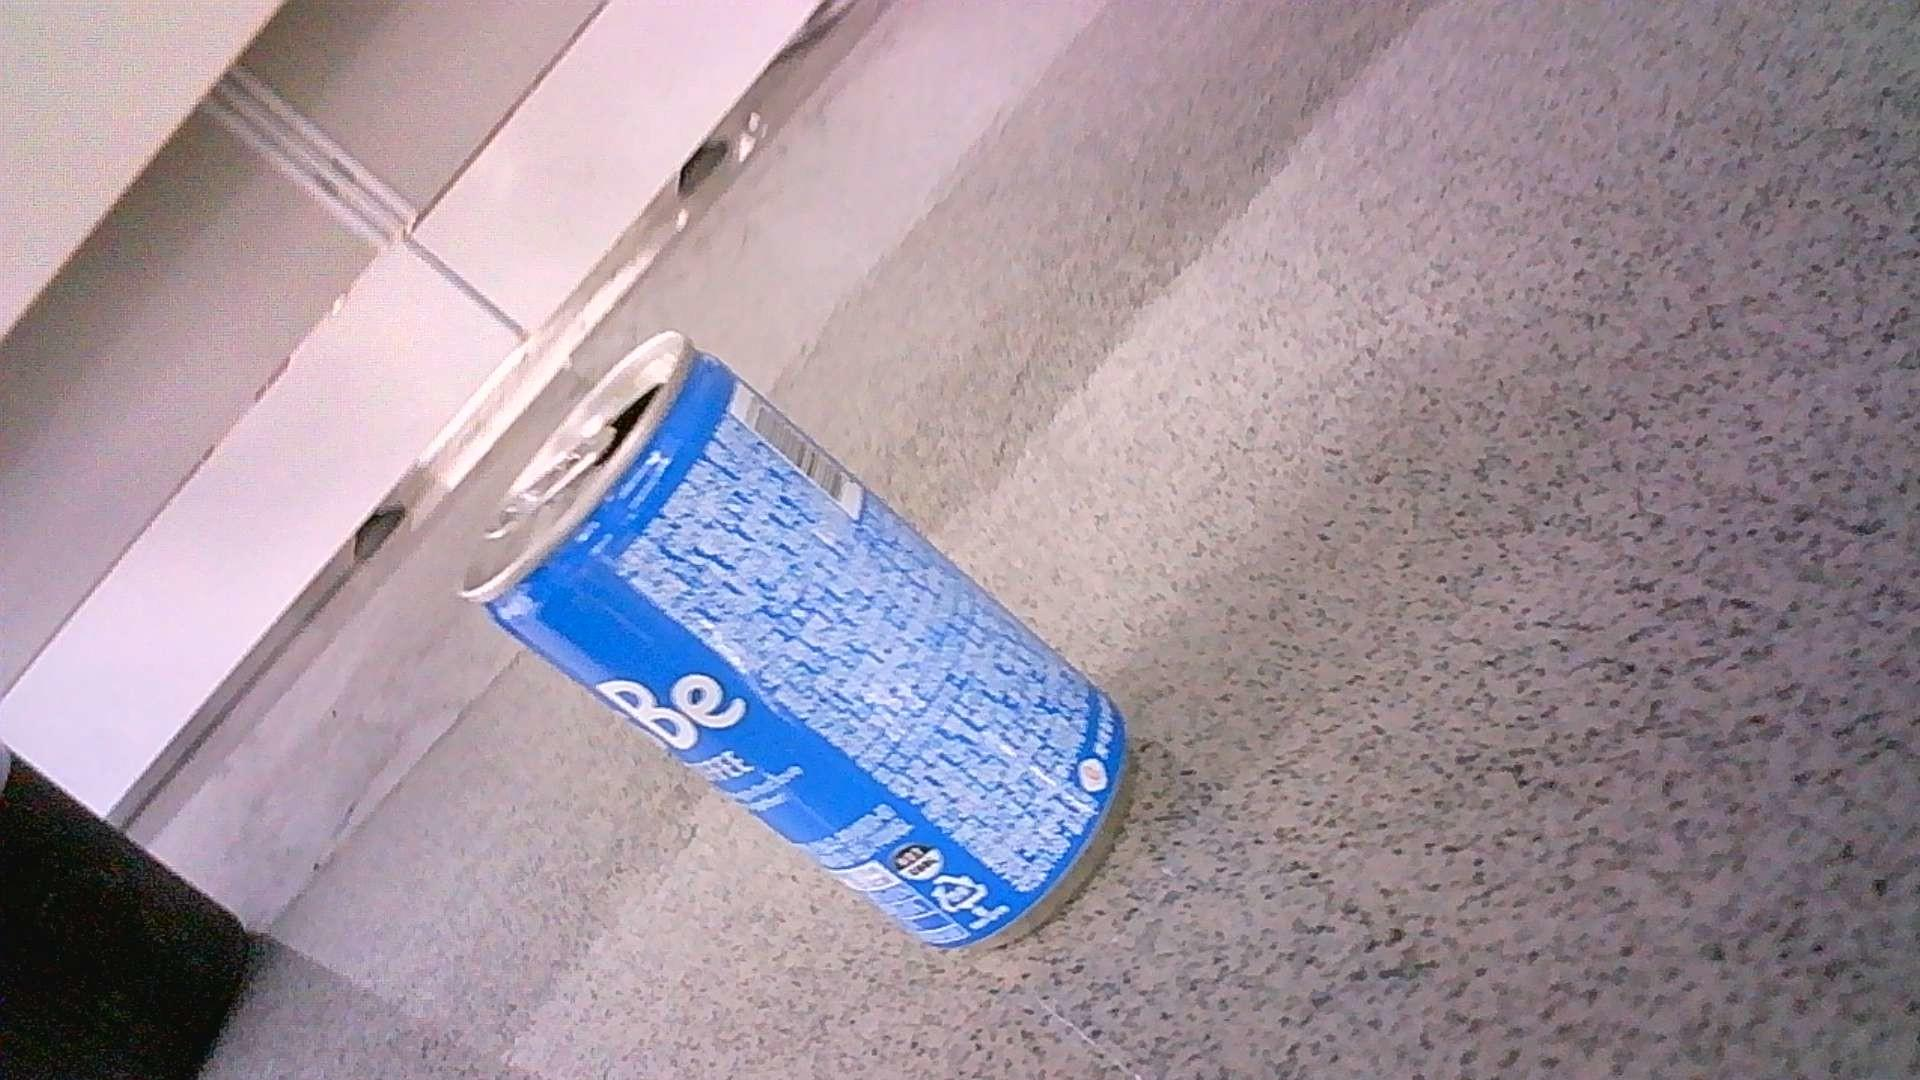letsbe: (458, 326, 1129, 953)
